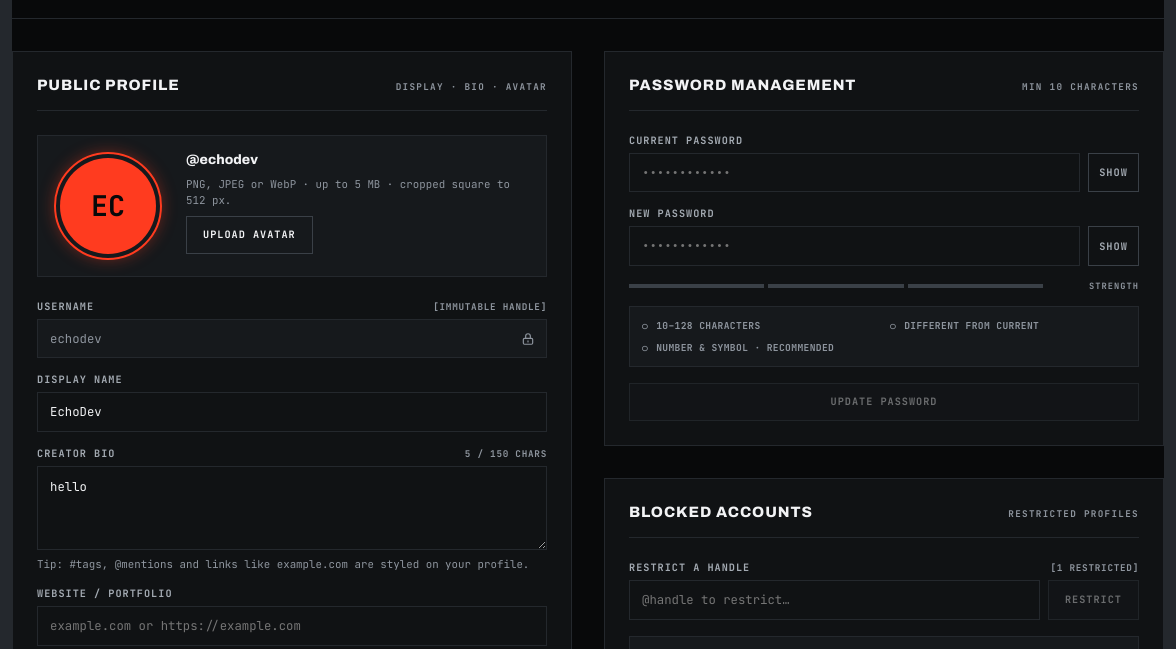
Test: ProfileSettingsPage › restricts a handle (stripping @) and refreshes the blocked list
Type "@troll" into the field labelled "RESTRICT A HANDLE". click: (834, 600)
box: [629,580,1040,620]
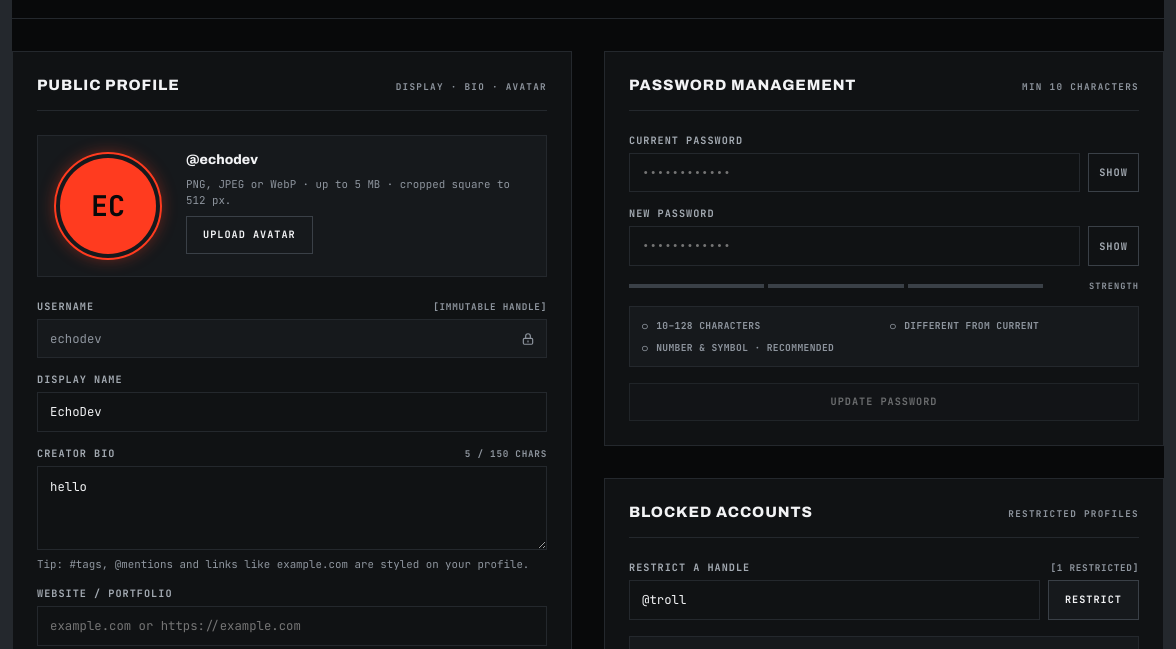
Click the button "RESTRICT". click: (1093, 600)
box: [1048,580,1139,620]
(page scrolled)
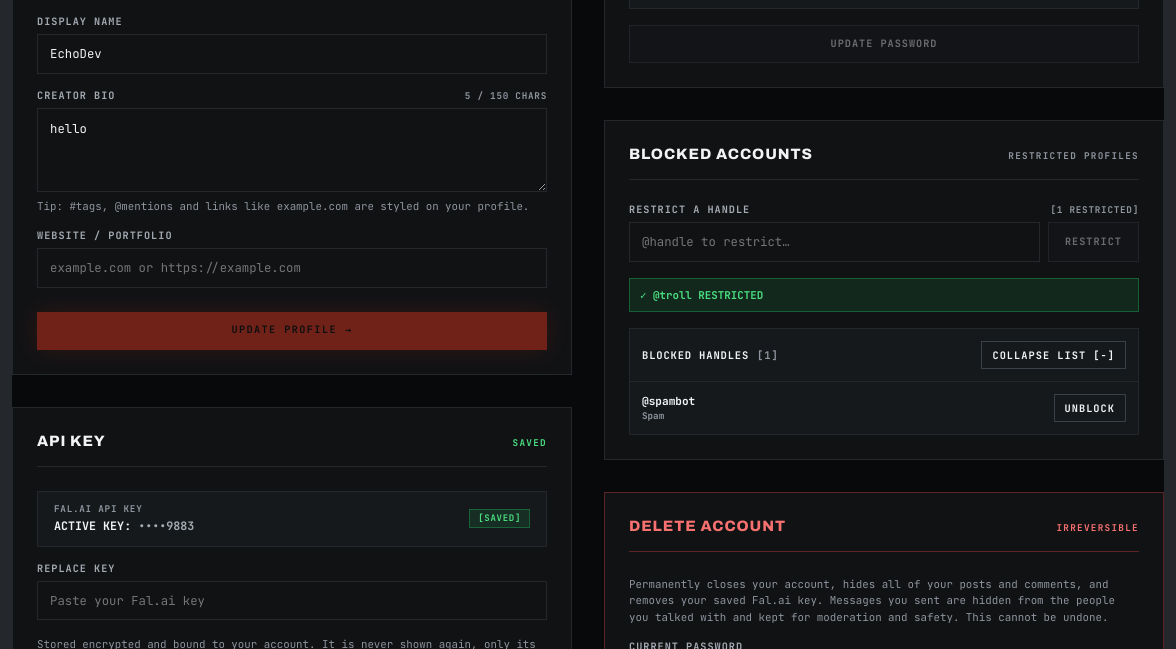
Check: the text "✓ @troll RESTRICTED" is shown, box [629,278,1139,312]
